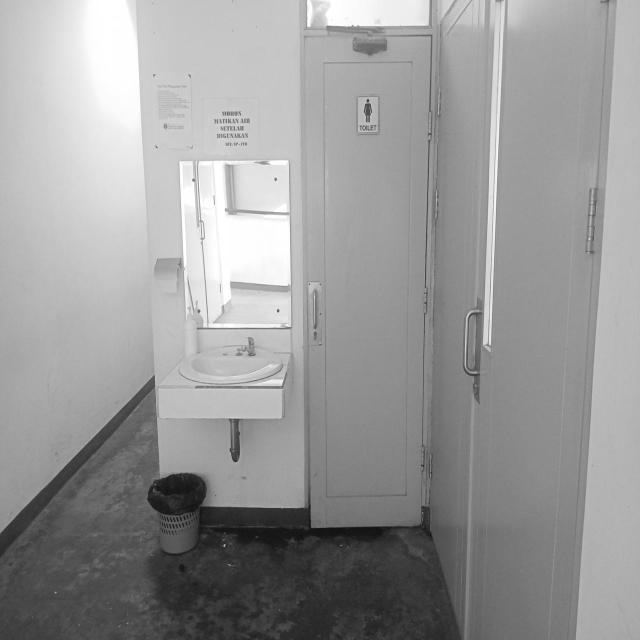door: (295, 22, 435, 534)
